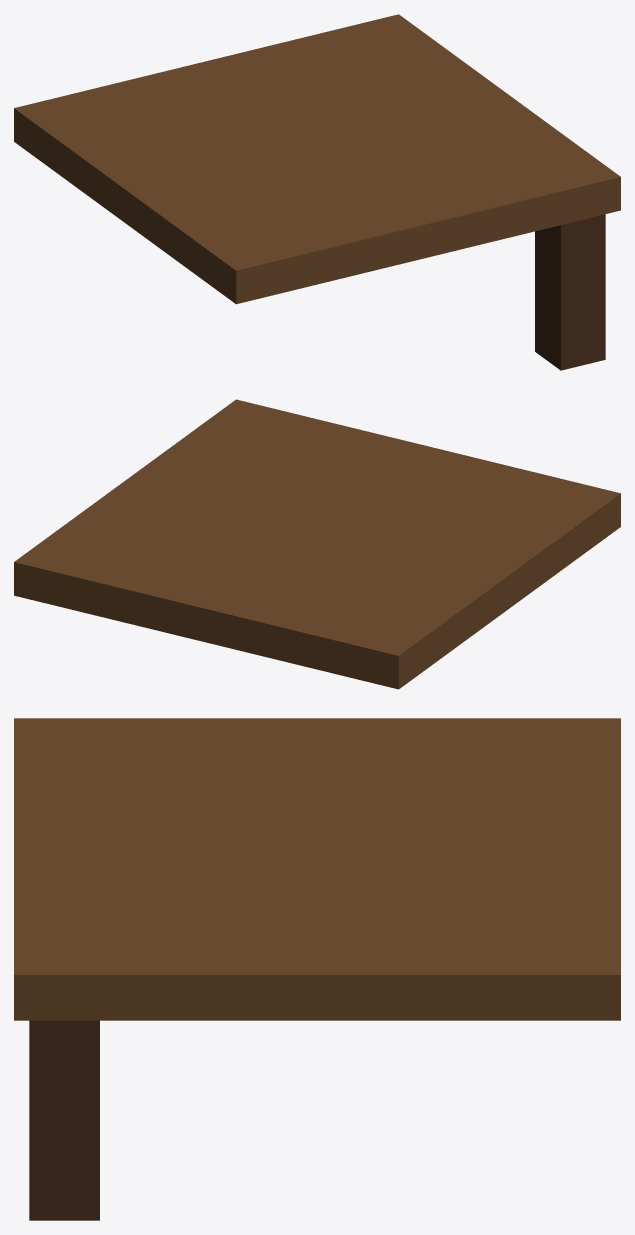
Rendered from hanok_toenmaru_corner.glb.
3 renders of one model, top to bottom at view 1: azimuth 30°, elevation 25°; view 2: azimuth 150°, elevation 25°; view 3: azimuth 270°, elevation 25°, orthographic. The views are drawn at different scales.
Visible parts, largest first — view 1: hanok_toenmaru_corner; view 2: hanok_toenmaru_corner; view 3: hanok_toenmaru_corner.
Boxes of the visible parts, x1=… form: hanok_toenmaru_corner: x1=14, y1=14, x2=620, y2=370; hanok_toenmaru_corner: x1=14, y1=399, x2=620, y2=689; hanok_toenmaru_corner: x1=14, y1=718, x2=620, y2=1220.
Bounding box in the file's own units: 1.2 × 0.55 × 1.2.
